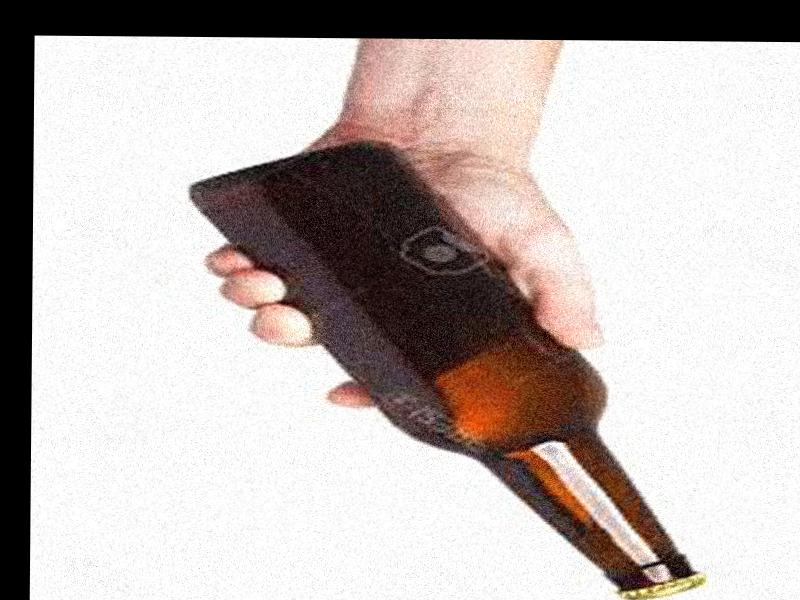Beer: (191, 142, 711, 600)
